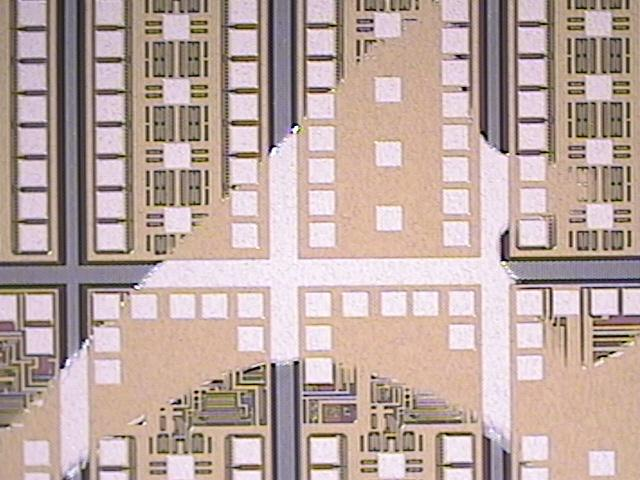BLOCK ETCH: (1, 1, 640, 480)
